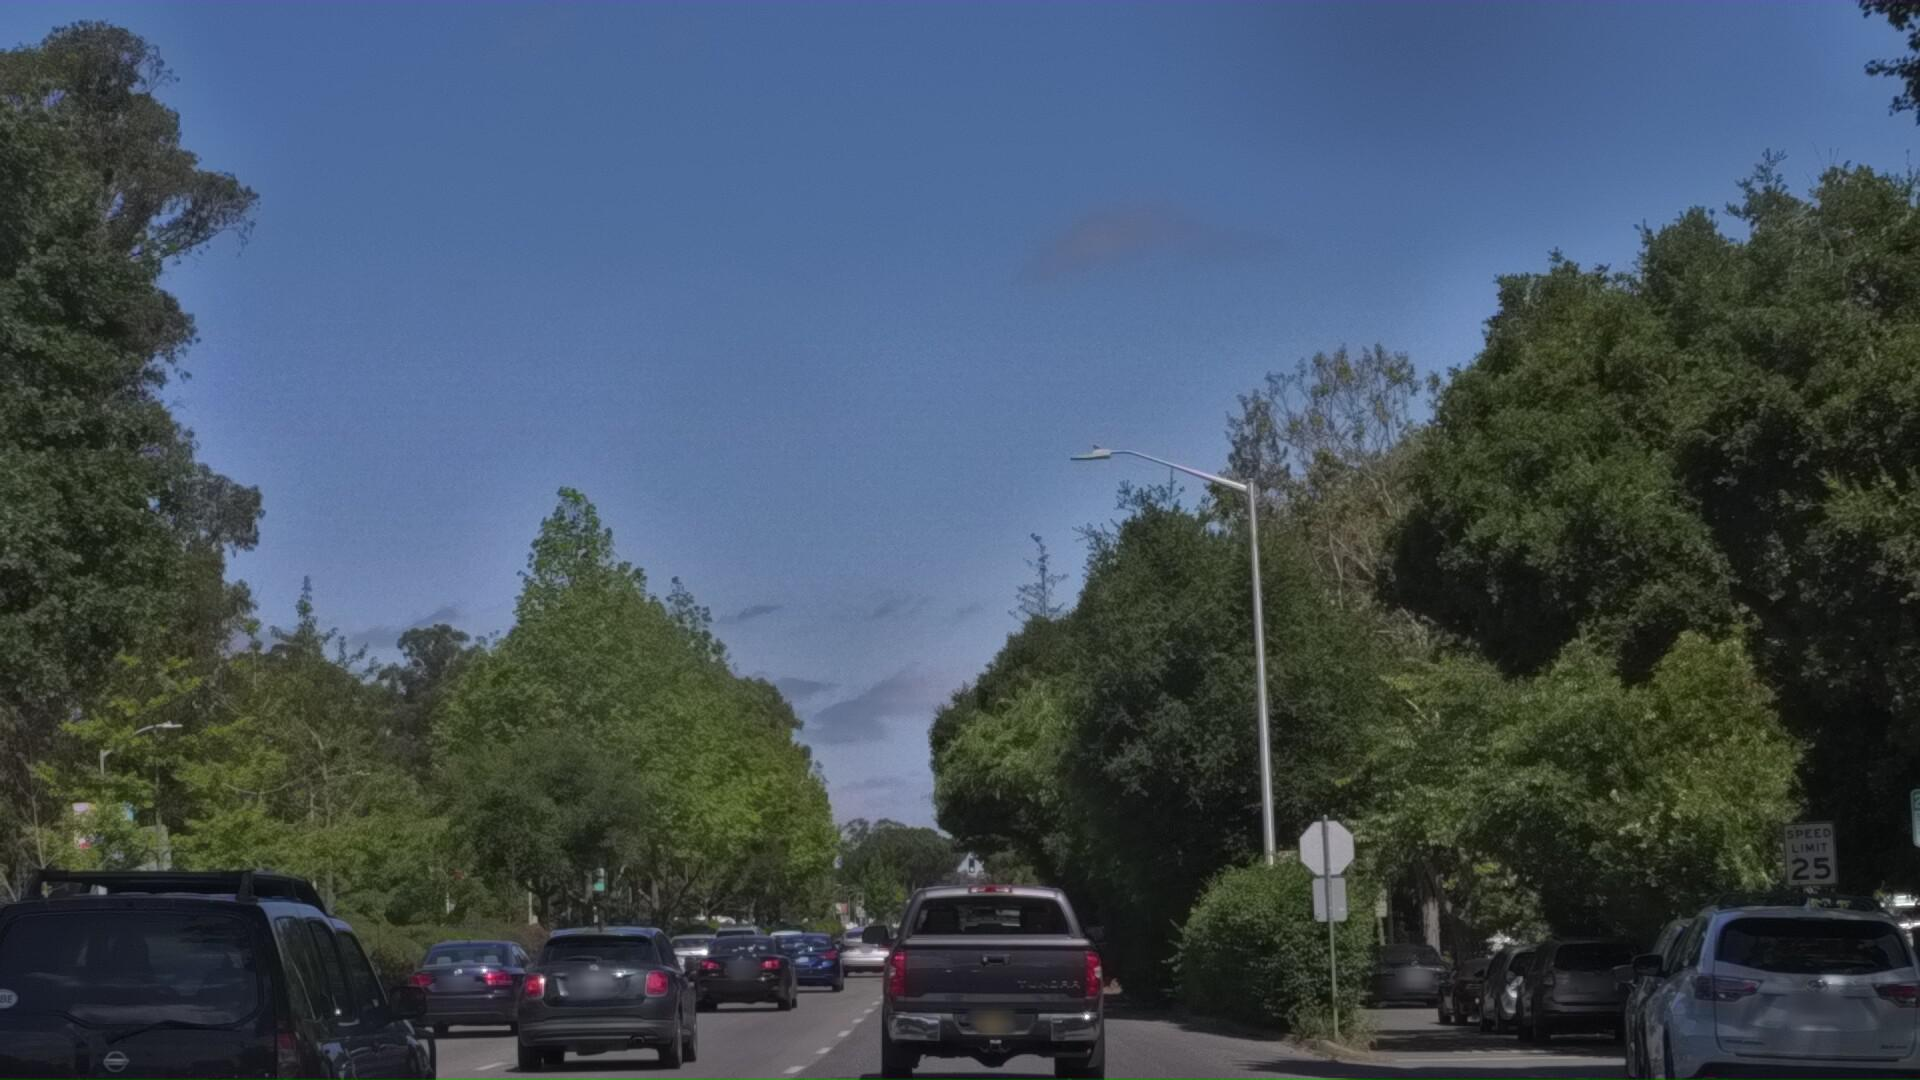car: (0, 878, 480, 1080), (1627, 885, 1920, 1080), (876, 895, 1133, 1080), (1619, 918, 1884, 1080), (517, 953, 713, 1080), (1509, 945, 1669, 1076), (409, 982, 567, 1080), (1437, 973, 1585, 1077), (1472, 967, 1609, 1059), (1360, 981, 1476, 1080), (694, 982, 808, 1077), (770, 965, 857, 1039)
